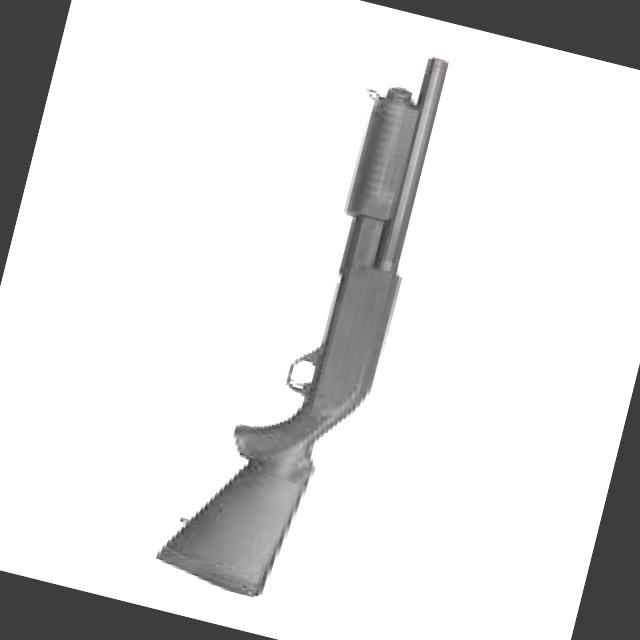long weapon: (113, 27, 494, 622)
